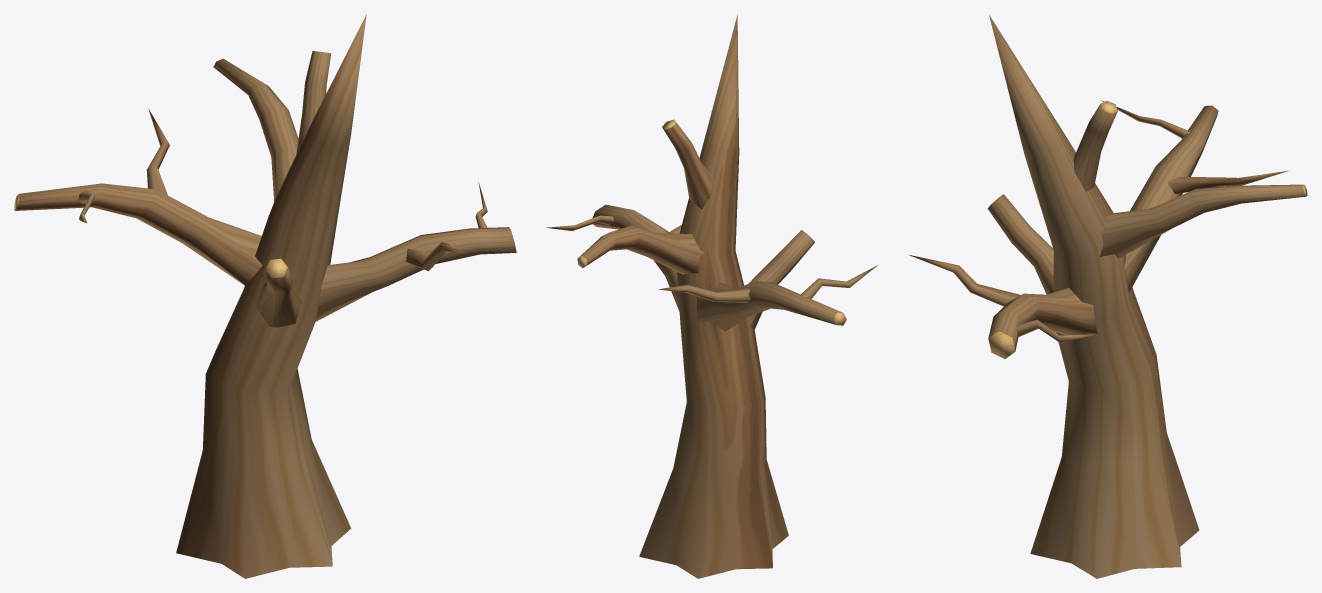
Rendered from Tree_07.FBX.
The picture shows the model from 3 angles, left to right: view 1: azimuth 30°, elevation 25°; view 2: azimuth 150°, elevation 25°; view 3: azimuth 270°, elevation 25°; orthographic projection. The views are drawn at different scales.
Visible parts, largest first — view 1: Trunk; view 2: Trunk; view 3: Trunk.
Part boxes in pixels (<box>): Trunk: <box>14,14,516,578</box>; Trunk: <box>546,15,877,578</box>; Trunk: <box>908,15,1307,578</box>.
Size of the model in its own units: 237 by 314 by 209.
1 material, 1 textured.
